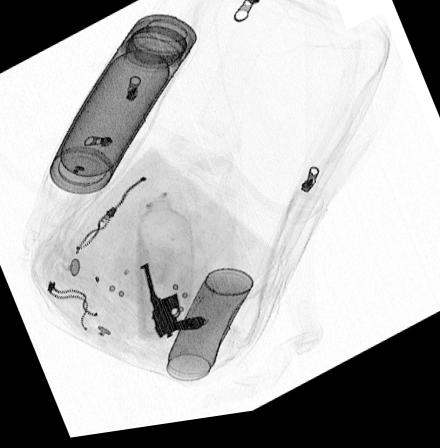Gun: (138, 267, 205, 344)
